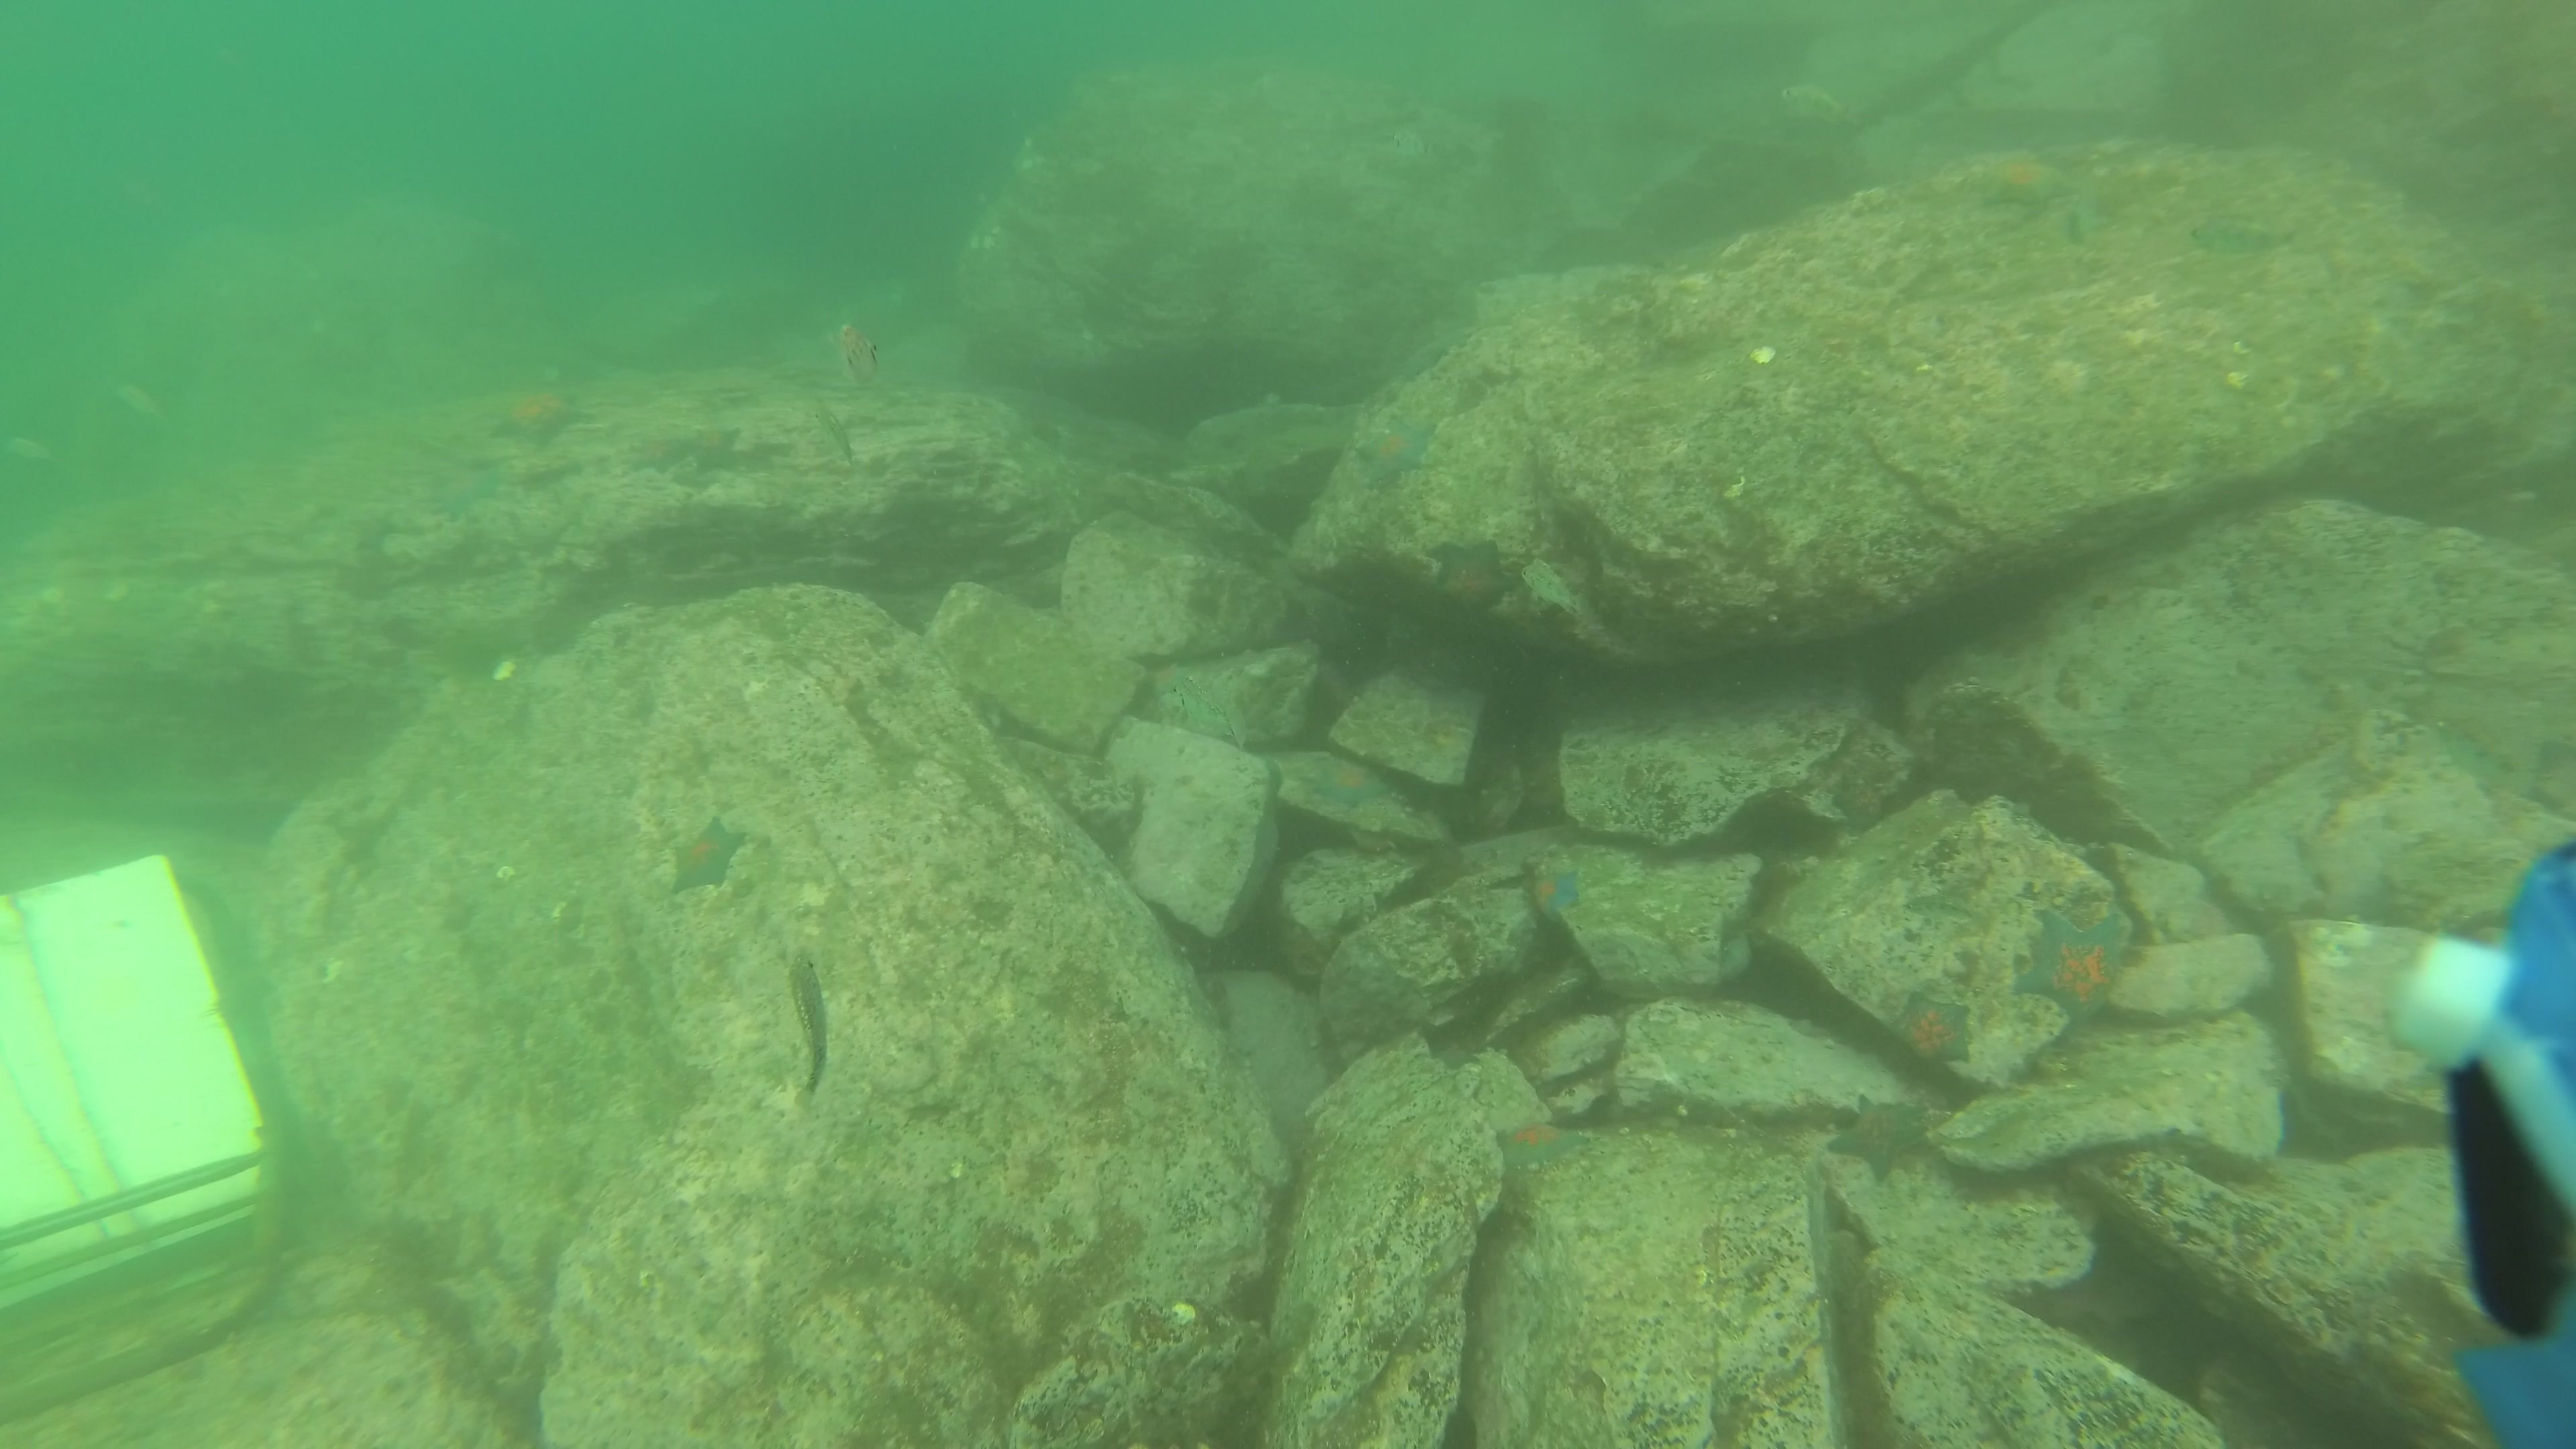starfish: (2006, 904, 2134, 1024), (1819, 1086, 1939, 1185), (1428, 531, 1527, 619), (1884, 991, 1978, 1072), (490, 384, 600, 451), (662, 814, 748, 897), (1974, 149, 2077, 218), (1299, 747, 1396, 816), (1355, 412, 1440, 488), (1497, 1115, 1598, 1175), (432, 464, 511, 522), (1828, 764, 1893, 835), (1520, 865, 1591, 922), (1709, 927, 1766, 989), (628, 428, 699, 478)
